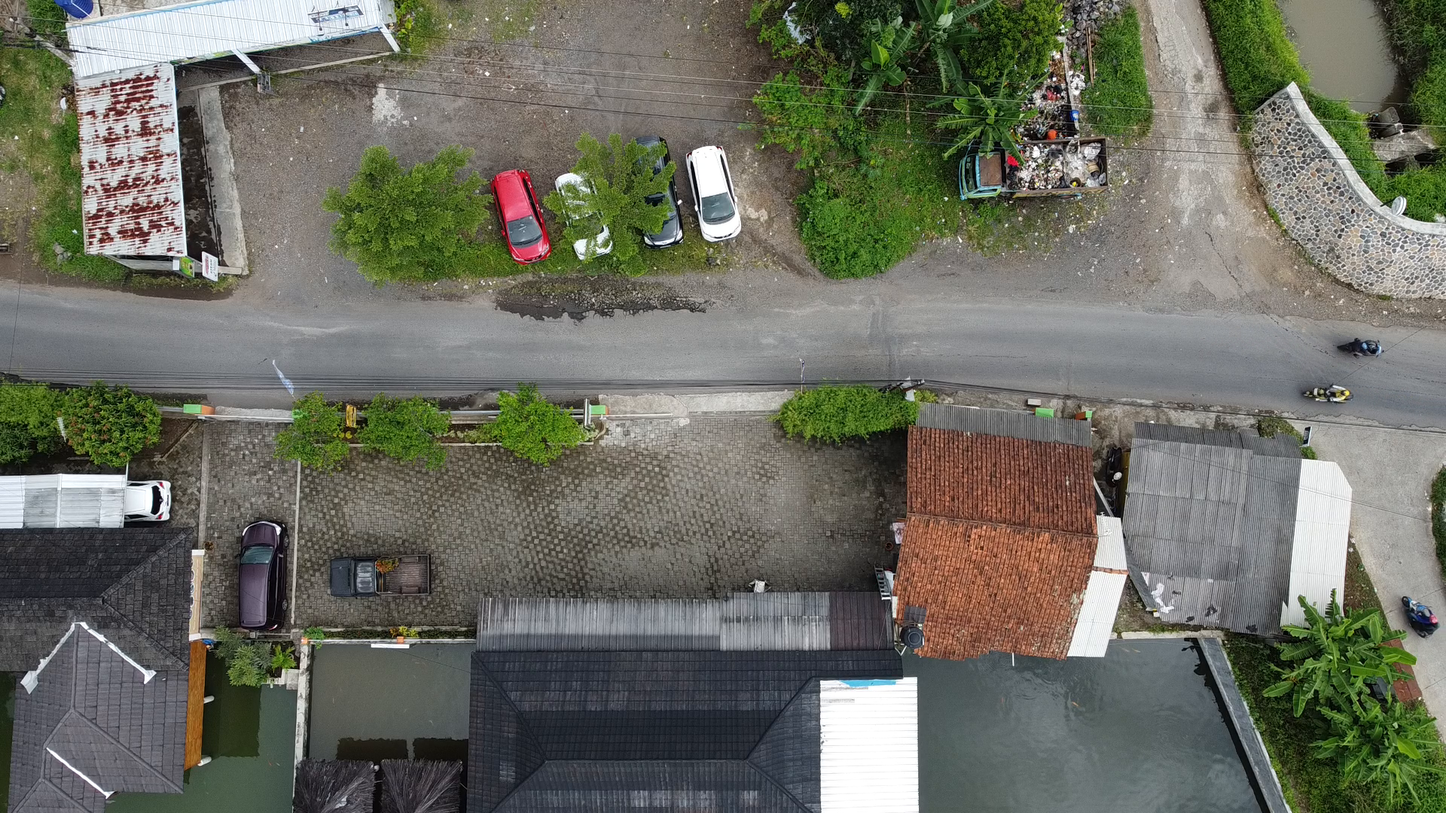mobil: (611, 113, 694, 262), (214, 509, 298, 637), (685, 131, 752, 257), (551, 162, 624, 265), (319, 544, 446, 603), (485, 160, 546, 263), (119, 472, 181, 527)
